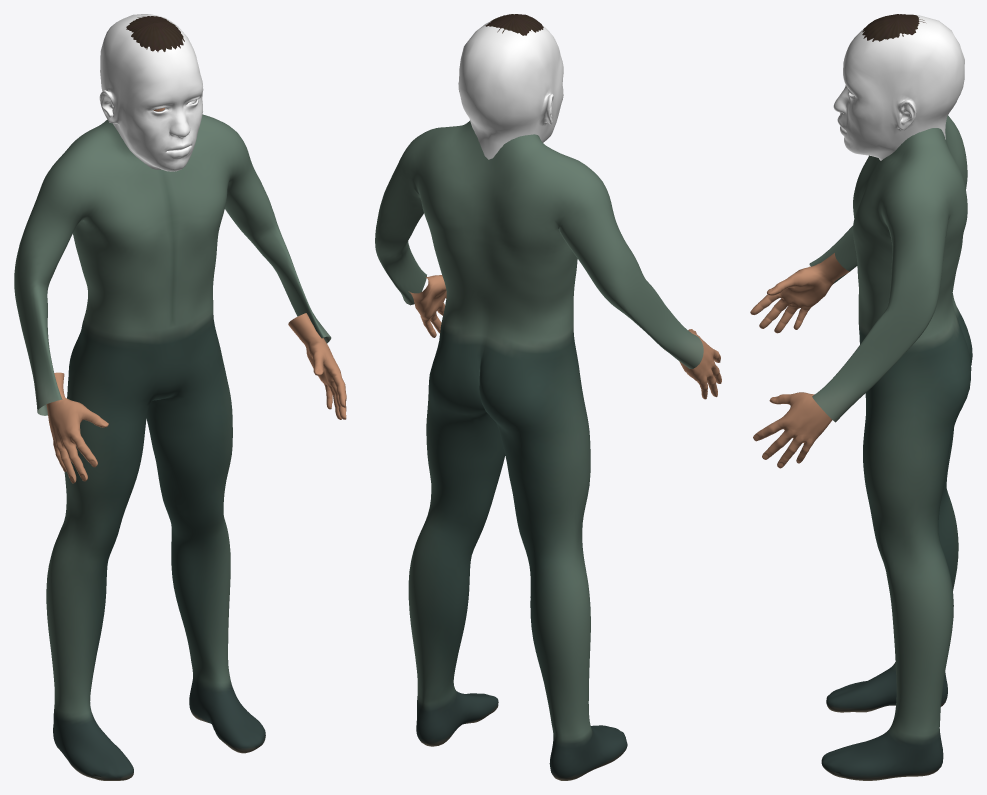
File: adult-man.glb
3 views of the same model, side by side, from view 1: azimuth 30°, elevation 25°; view 2: azimuth 150°, elevation 25°; view 3: azimuth 270°, elevation 25° (orthographic).
Parts seen in each view (by area): view 1: Clothing, Cutaway, Hands, Hair cap; view 2: Clothing, Cutaway, Hands, Hair cap; view 3: Clothing, Cutaway, Hands, Hair cap.
Part boxes in pixels (box(x1,y1,x2,y2)): Clothing: box(14, 114, 331, 780); Cutaway: box(99, 14, 203, 171); Hands: box(46, 313, 346, 483); Hair cap: box(126, 16, 184, 51); Clothing: box(375, 121, 703, 780); Cutaway: box(458, 20, 563, 159); Hands: box(408, 275, 721, 399); Hair cap: box(485, 14, 543, 35); Clothing: box(809, 115, 972, 780); Cutaway: box(833, 15, 964, 160); Hands: box(750, 253, 849, 468); Hair cap: box(862, 14, 925, 41).
Size of the model in its own units: 2.53 by 5.96 by 1.66.
